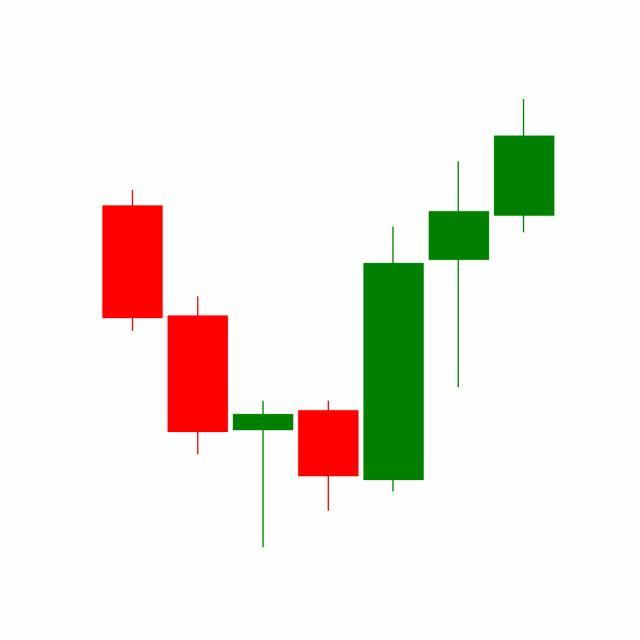Advance Block: (360, 99, 556, 496)
